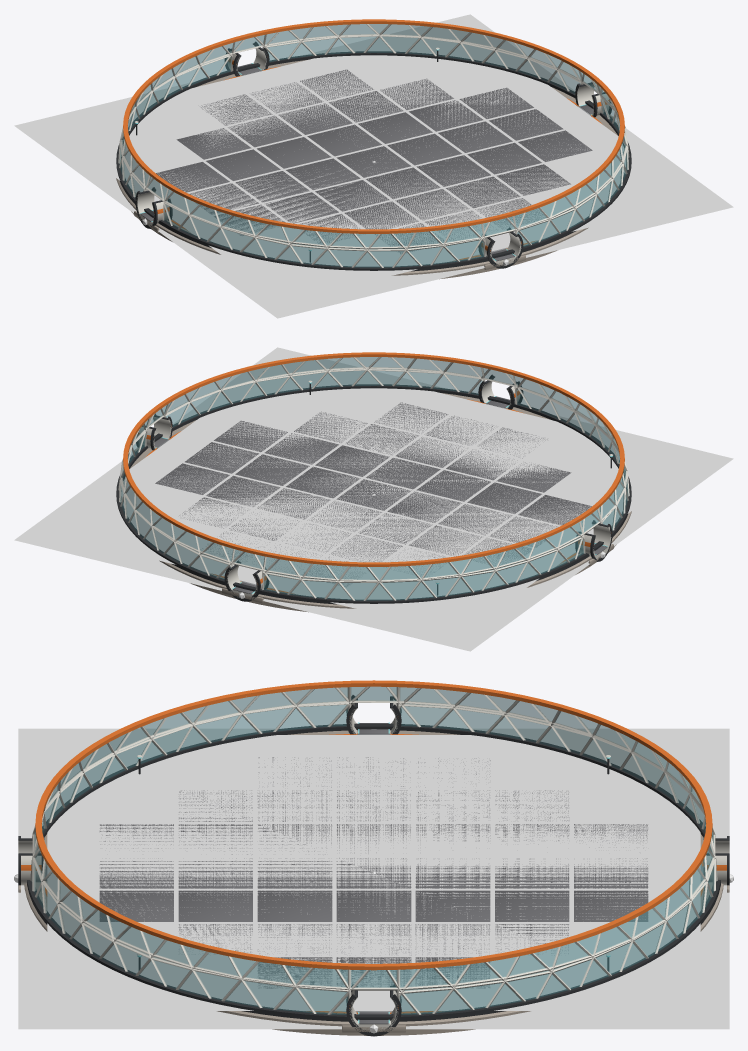
File: dome_9x9_cut.gltf
3 views of the same model, one above another, from view 1: azimuth 30°, elevation 25°; view 2: azimuth 150°, elevation 25°; view 3: azimuth 270°, elevation 25° (orthographic). The views are drawn at different scales.
Parts seen in each view (by area): view 1: DomeLarge, %P%Interior, %P%Footprint; view 2: DomeLarge, %P%Interior, %P%Footprint; view 3: %P%Interior, DomeLarge, %P%Footprint.
Part boxes in pixels (<box>): DomeLarge: <box>116,19,631,279</box>; %P%Interior: <box>43,22,704,301</box>; %P%Footprint: <box>14,14,733,318</box>; DomeLarge: <box>116,352,631,612</box>; %P%Interior: <box>43,355,704,634</box>; %P%Footprint: <box>14,347,733,651</box>; %P%Interior: <box>47,735,700,1010</box>; DomeLarge: <box>18,680,729,1036</box>; %P%Footprint: <box>18,728,729,1029</box>.
Size of the model in its own units: 18.23 by 1.8 by 18.22.
